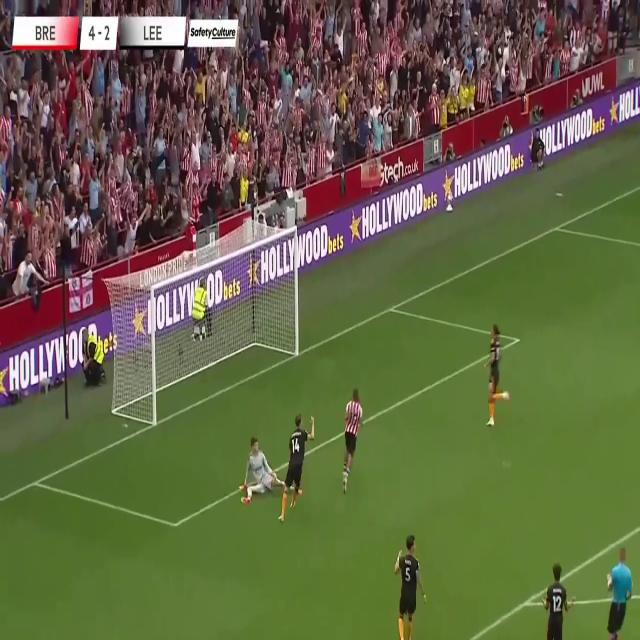ball: (182, 249, 190, 262)
team1: (278, 412, 317, 525), (393, 534, 427, 640), (484, 320, 512, 428), (540, 561, 578, 640)
team2: (338, 389, 363, 493)
